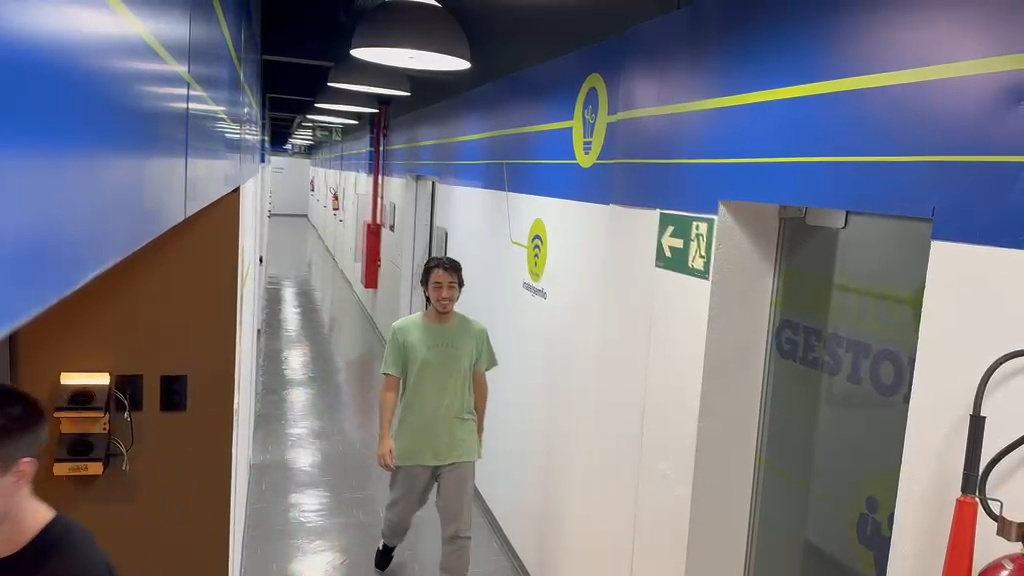person: (371, 255, 498, 573), (0, 383, 117, 570)
